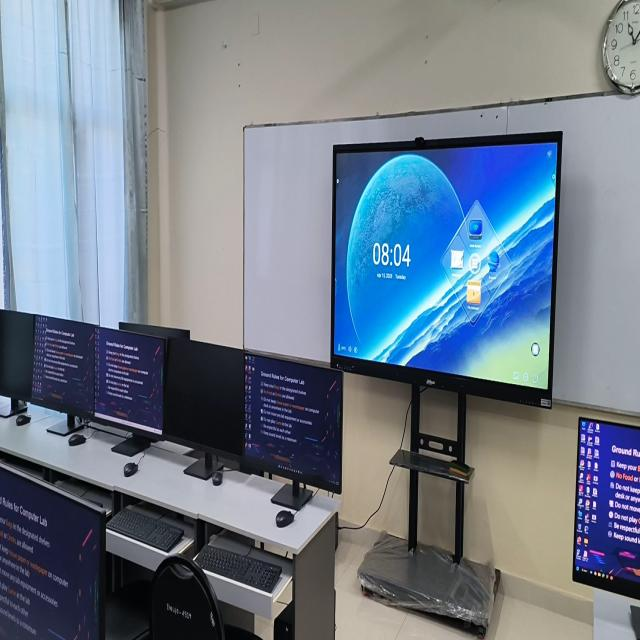Chair: (150, 555, 224, 639)
Digital board: (331, 132, 562, 419)
Keyboard: (196, 543, 282, 593), (108, 505, 184, 552)
Monitor: (0, 463, 104, 639), (244, 353, 343, 492), (573, 418, 640, 599), (163, 338, 244, 456), (95, 328, 165, 434), (31, 316, 96, 417), (0, 310, 34, 400)
Mouse: (276, 510, 294, 527), (68, 433, 86, 446), (123, 462, 138, 476), (16, 414, 31, 425), (212, 471, 222, 485)
